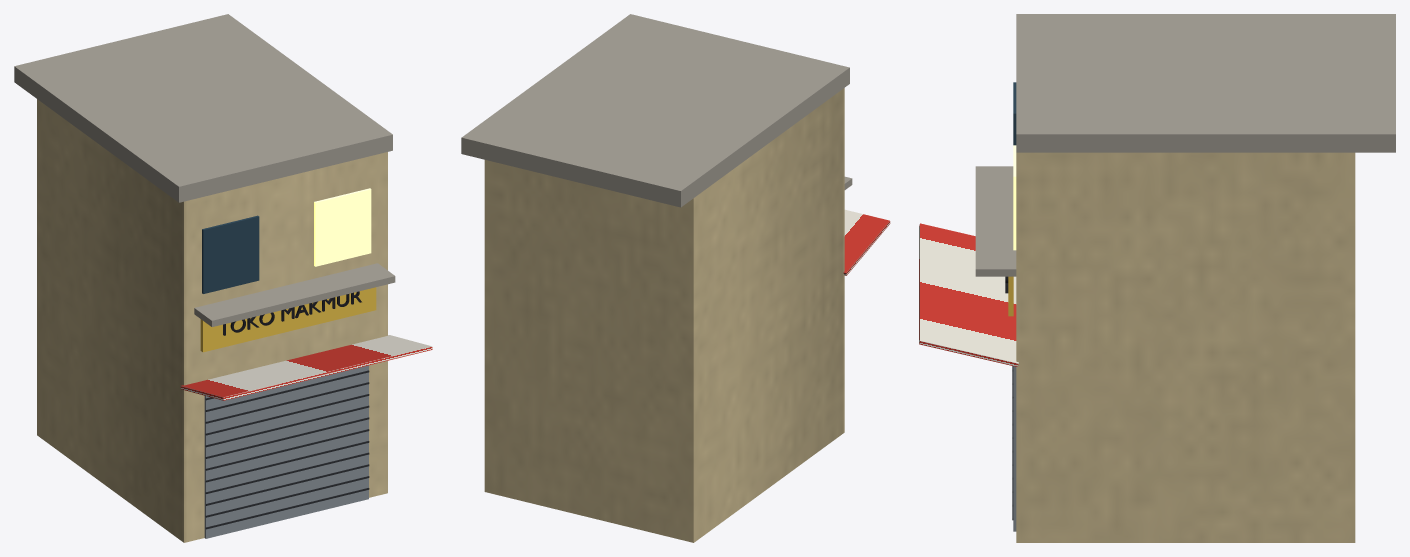
File: prop_ruko_a.glb
3 views of the same model, side by side, from view 1: azimuth 30°, elevation 25°; view 2: azimuth 150°, elevation 25°; view 3: azimuth 270°, elevation 25° (orthographic). The views are drawn at different scales.
Visible parts, largest first — view 1: ruko_a; view 2: ruko_a; view 3: ruko_a.
Boxes of the visible parts, x1,y1,x2,y2 form: ruko_a: (14, 14, 432, 542); ruko_a: (461, 14, 890, 542); ruko_a: (919, 14, 1395, 542).
Size of the model in its own units: 4.2 by 6.7 by 7.03.
9 materials, 2 textured.
